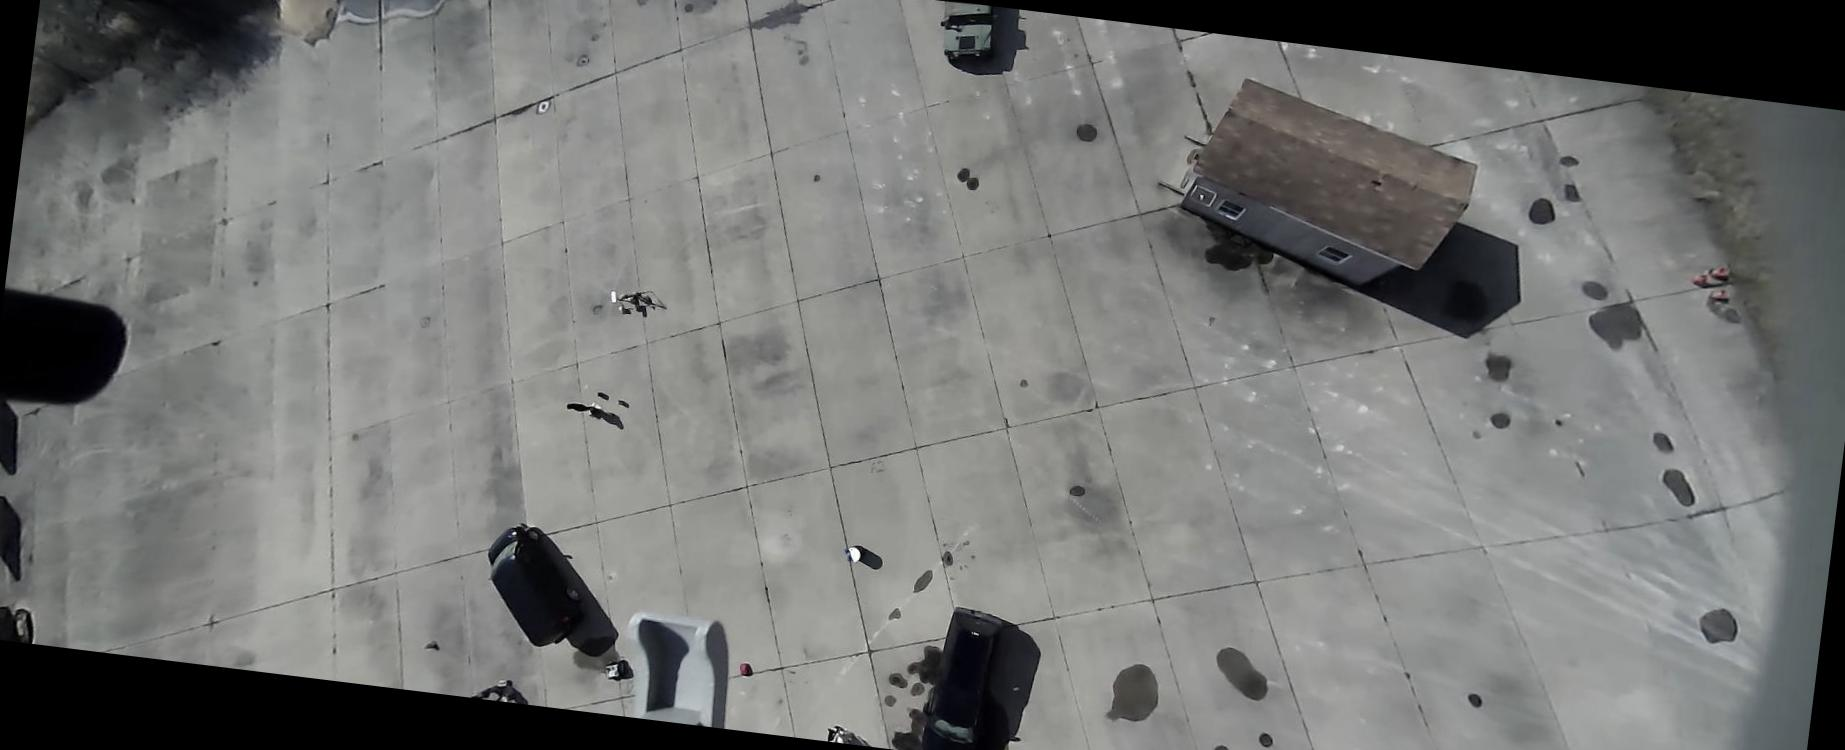vehicle: (475, 519, 592, 652), (918, 603, 1007, 749)
